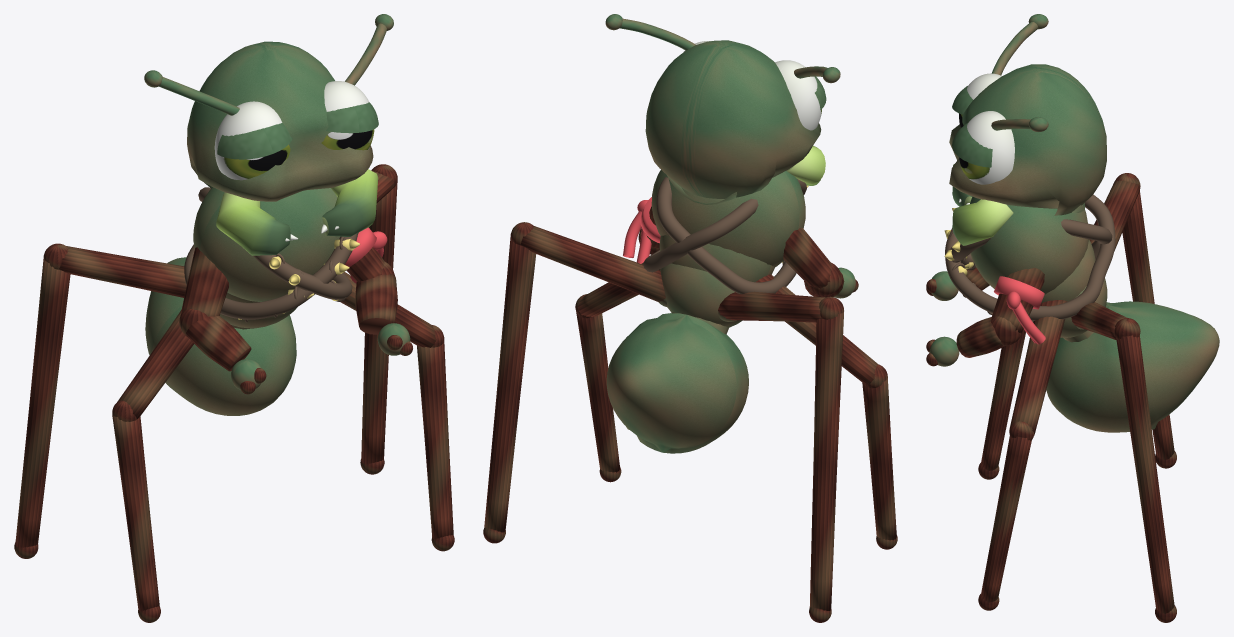
The model's file is combat_ant.glb.
3 views of the same model, side by side, from view 1: azimuth 30°, elevation 25°; view 2: azimuth 150°, elevation 25°; view 3: azimuth 270°, elevation 25° (orthographic). The views are drawn at different scales.
Visible parts, largest first — view 1: Combat_Head, Combat_Gaster, Combat_Pronotum, Combat_Leg_Hind_Tibia_L, Combat_Leg_Mid_Tibia_L, Combat_Leg_Mid_Tibia_R, Combat_Leg_Hind_Tibia_R, Combat_Leg_Hind_Femur_L, Combat_Mandible_L, Eye_L, Combat_Leg_Mid_Femur_L, Combat_Mandible_R (+14 smaller); view 2: Combat_Head, Combat_Gaster, Combat_Leg_Hind_Tibia_L, Combat_Leg_Hind_Tibia_R, Combat_Pronotum, Combat_Leg_Hind_Femur_R, Combat_Leg_Mid_Tibia_L, Combat_Leg_Mid_Tibia_R, Combat_Metanotum, Bandolier_Strap_R_to_L, Combat_Leg_Hind_Femur_L, Bandolier_Strap_L_to_R (+7 smaller); view 3: Combat_Head, Combat_Gaster, Combat_Pronotum, Combat_Leg_Hind_Tibia_R, Bandolier_Strap_L_to_R, Combat_Leg_Mid_Tibia_R, Combat_Leg_Mid_Femur_R, Combat_Leg_Hind_Tibia_L, Combat_Leg_Mid_Tibia_L, Eye_R, Combat_Mandible_R, Bandolier_Strap_R_to_L (+15 smaller).
Part boxes in pixels (x1,y1,x2,y2): Combat_Head: (187,41,373,201); Combat_Gaster: (145,257,296,415); Combat_Pronotum: (193,187,339,301); Combat_Leg_Hind_Tibia_L: (15,257,70,547); Combat_Leg_Mid_Tibia_L: (112,415,159,611); Combat_Leg_Mid_Tibia_R: (417,337,453,538); Combat_Leg_Hind_Tibia_R: (361,181,397,464); Combat_Leg_Hind_Femur_L: (59,246,186,297); Combat_Mandible_L: (216,192,290,255); Eye_L: (214,101,290,180); Combat_Leg_Mid_Femur_L: (117,310,193,418); Combat_Mandible_R: (322,169,378,236); Combat_Head: (645,40,821,204); Combat_Gaster: (606,313,748,453); Combat_Leg_Hind_Tibia_L: (809,312,843,610); Combat_Leg_Hind_Tibia_R: (484,234,536,532); Combat_Pronotum: (651,170,805,267); Combat_Leg_Hind_Femur_R: (520,226,665,302); Combat_Leg_Mid_Tibia_L: (862,377,896,540); Combat_Leg_Mid_Tibia_R: (576,311,620,472); Combat_Metanotum: (660,263,742,327); Bandolier_Strap_R_to_L: (656,177,796,294); Combat_Leg_Hind_Femur_L: (718,291,825,322); Bandolier_Strap_L_to_R: (643,179,806,272); Combat_Head: (949,64,1106,215); Combat_Gaster: (1046,301,1219,432); Combat_Pronotum: (970,196,1088,294); Combat_Leg_Hind_Tibia_R: (1116,335,1174,613); Bandolier_Strap_L_to_R: (945,194,1115,320); Combat_Leg_Mid_Tibia_R: (981,436,1031,602); Combat_Leg_Mid_Femur_R: (1009,300,1067,435); Combat_Leg_Hind_Tibia_L: (1122,191,1174,459); Combat_Leg_Mid_Tibia_L: (981,329,1025,470); Eye_R: (959,111,1014,184); Combat_Mandible_R: (952,199,1013,245); Bandolier_Strap_R_to_L: (951,219,1112,267).
Size of the model in its own units: 1.4 by 1.91 by 1.06.
Materials: 8 (4 with a texture image).
